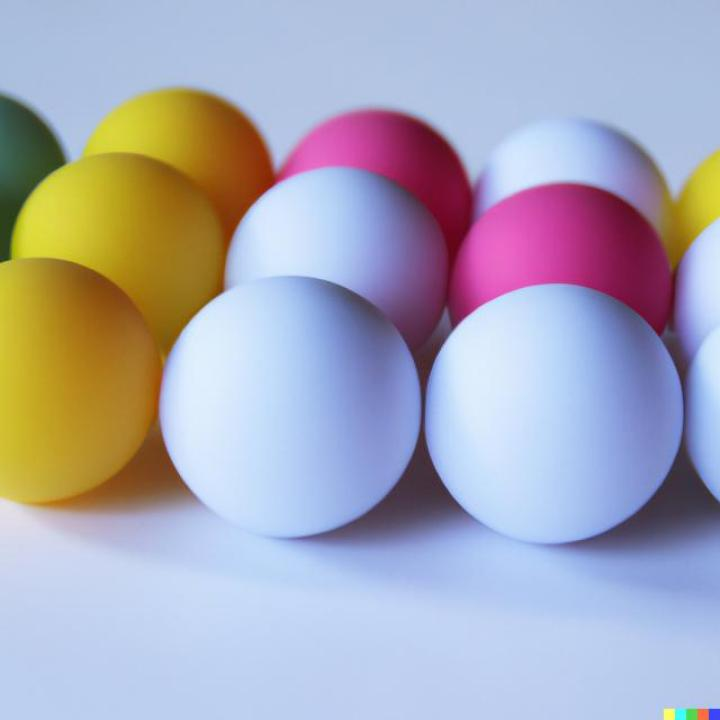white: (421, 283, 686, 544), (158, 276, 421, 538)
